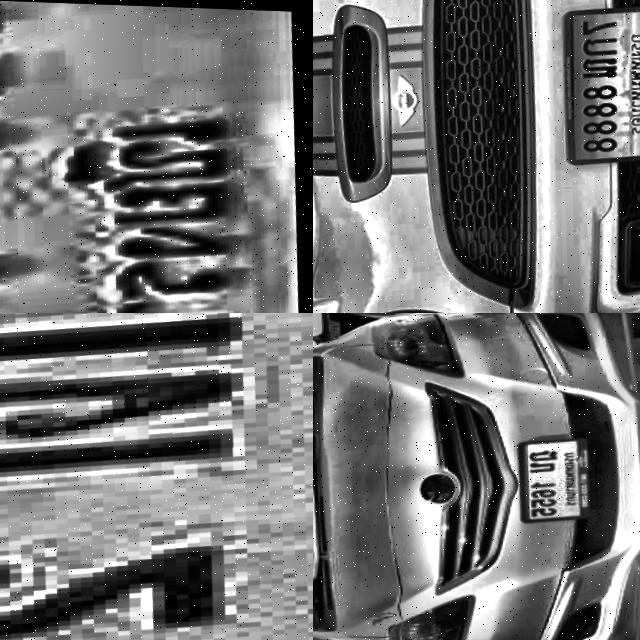license-plate: (0, 313, 313, 640), (0, 0, 313, 313), (554, 0, 640, 163), (514, 429, 610, 524)
